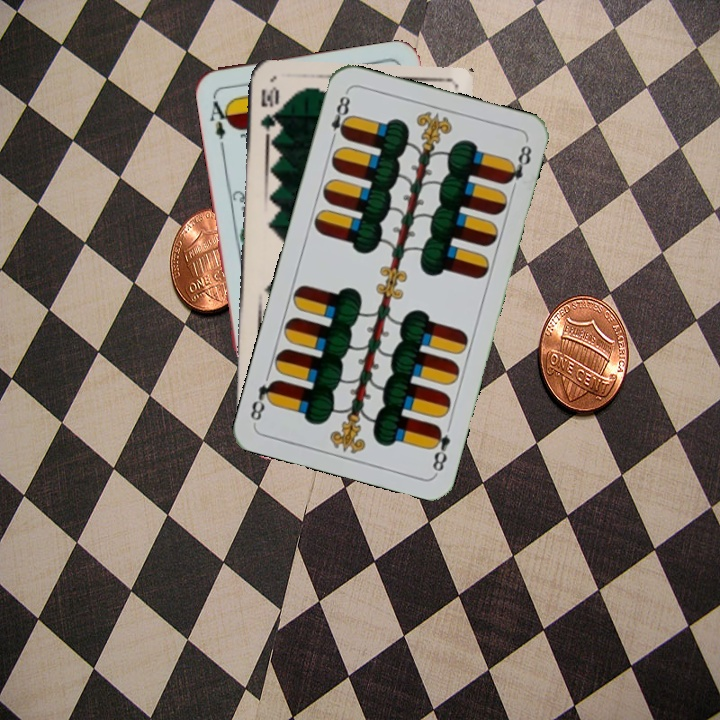E8: (326, 88, 354, 146), (426, 422, 453, 476)
EA: (205, 92, 235, 142)
G10: (256, 83, 280, 142)
